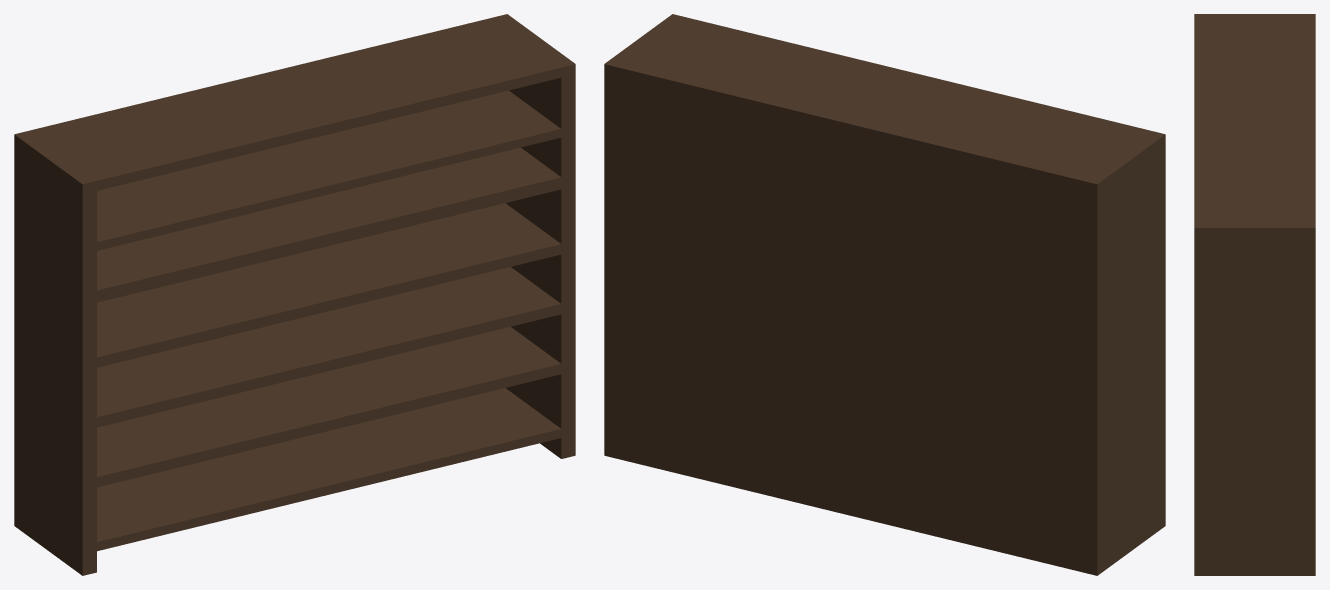
Rendered from BookShelf.glb.
The picture shows the model from 3 angles, left to right: view 1: azimuth 30°, elevation 25°; view 2: azimuth 150°, elevation 25°; view 3: azimuth 270°, elevation 25°; orthographic projection. The views are drawn at different scales.
Parts seen in each view (by area): view 1: Bookshelf; view 2: Bookshelf; view 3: Bookshelf.
Part boxes in pixels (bbox=[...]): Bookshelf: bbox=[14, 14, 575, 575]; Bookshelf: bbox=[604, 14, 1165, 575]; Bookshelf: bbox=[1194, 14, 1315, 575].
Size of the model in its own units: 29.09 by 22.07 by 6.99.
